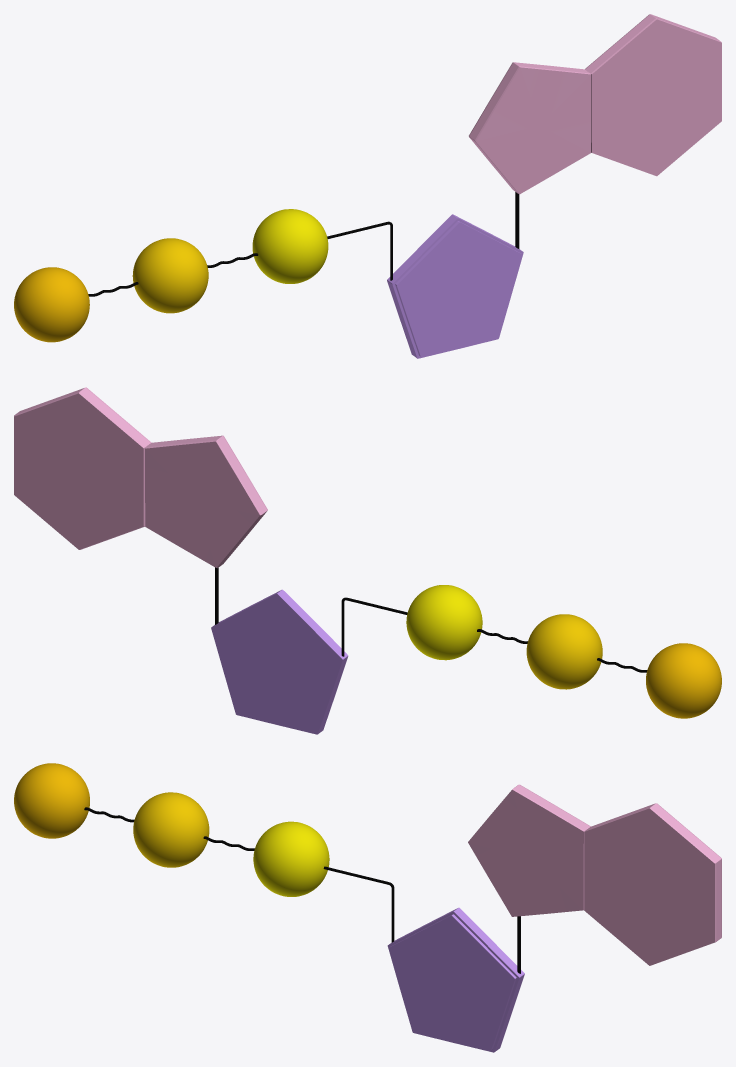
Rendered from ATDMP.gltf.
3 views of the same model, one above another, from view 1: azimuth 30°, elevation 25°; view 2: azimuth 150°, elevation 25°; view 3: azimuth 330°, elevation 25° (orthographic).
Visible parts, largest first — view 1: AMP, ATP, ADP; view 2: AMP, ADP, ATP; view 3: AMP, ATP, ADP.
Part boxes in pixels (<box>): AMP: <box>252,14,721,358</box>; ATP: <box>14,267,138,342</box>; ADP: <box>132,238,258,313</box>; AMP: <box>14,387,482,734</box>; ADP: <box>477,614,602,689</box>; ATP: <box>597,643,721,718</box>; AMP: <box>253,784,721,1052</box>; ATP: <box>14,763,134,838</box>; ADP: <box>133,792,254,867</box>.
Size of the model in its own units: 0.9884 by 0.3831 by 0.0921.
